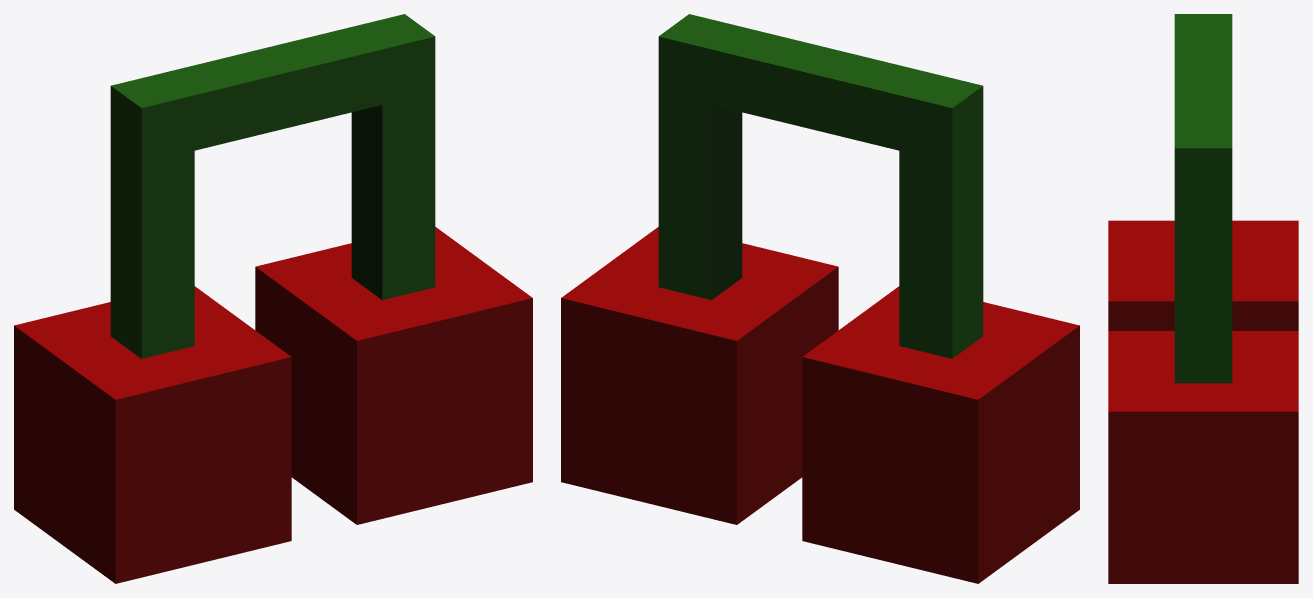
The model's file is Cherry.FBX.
3 views of the same model, side by side, from view 1: azimuth 30°, elevation 25°; view 2: azimuth 150°, elevation 25°; view 3: azimuth 270°, elevation 25° (orthographic). The views are drawn at different scales.
Parts seen in each view (by area): view 1: Box004; view 2: Box004; view 3: Box004.
Part boxes in pixels (left/top/right/bottom): Box004: left=14, top=14, right=532, bottom=583; Box004: left=561, top=14, right=1079, bottom=583; Box004: left=1108, top=14, right=1298, bottom=583.
Bounding box in the file's own units: 60.12 × 59.86 × 25.34.
